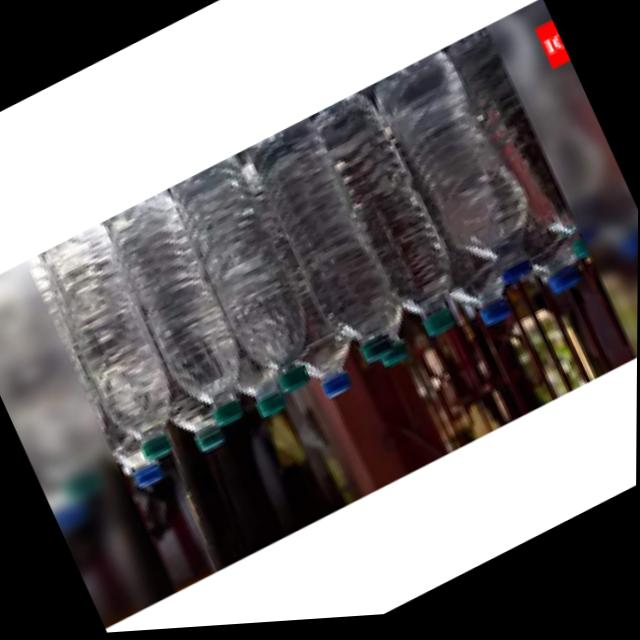plastic_water_bottles: (375, 54, 556, 321), (39, 227, 206, 483), (173, 166, 338, 418), (257, 137, 422, 387)
